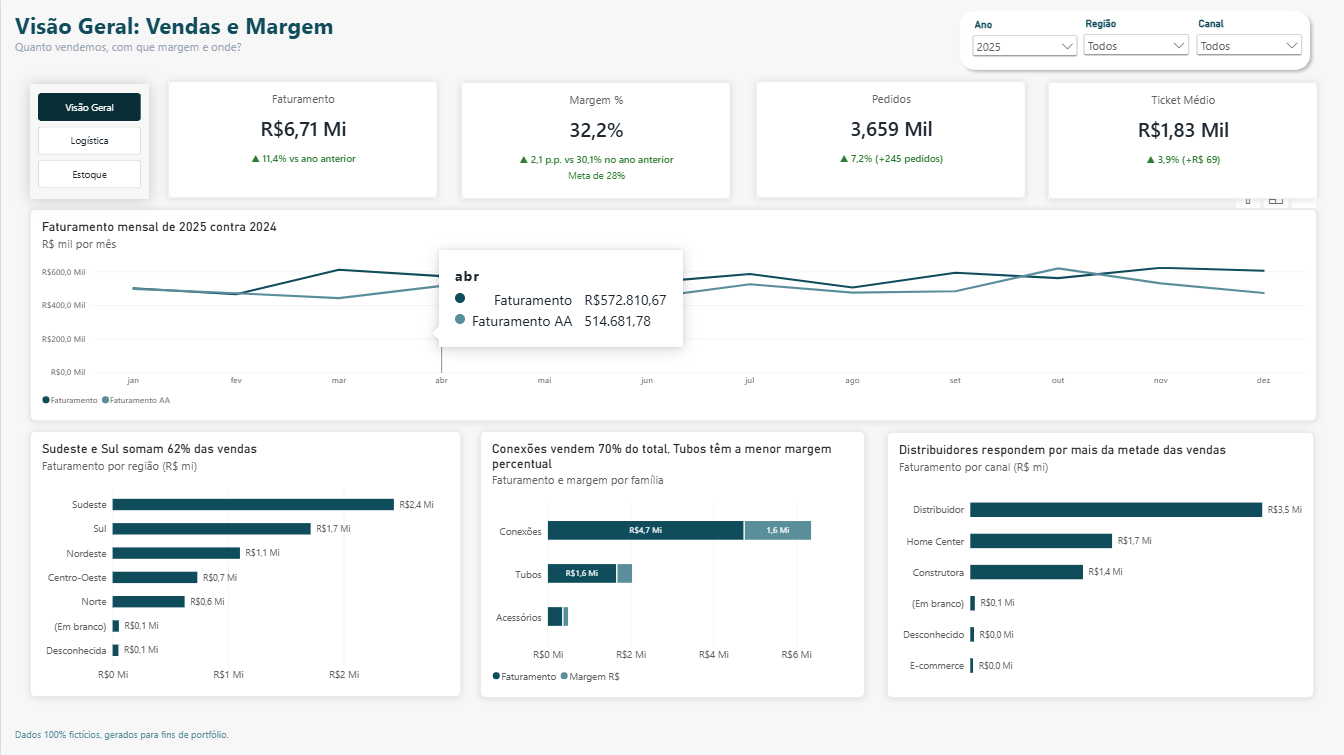

This screenshot's page, from the dashboard's own definition file:
{"tool":"powerbi","page":{"name":"Visão Geral","canvas":[1920,1080],"ordinal":0},"visuals":[{"type":"shape","box":[1361.6,8.4,517.4,101.1],"z":0,"group":"g1"},{"type":"textbox","box":[20,1040,496.1,26.6],"z":0},{"type":"textbox","box":[20.6,14.2,659.5,68],"z":1000},{"type":"lineChart","title":"Faturamento mensal de 2025 contra 2024","fields":{"Category":["dCalendario.Mes"],"Y":["_Medidas.Faturamento","_Medidas.Faturamento AA"]},"box":[41.2,300.6,1838.1,303.3],"z":2000},{"type":"barChart","title":"Distribuidores respondem por mais da metade das vendas","fields":{"Category":["dClientes.canal"],"Y":["_Medidas.Faturamento"]},"box":[1265,618.3,610.5,380.4],"z":3000},{"type":"barChart","fields":{"Category":["dClientes.regiao"],"Y":["_Medidas.Faturamento"]},"box":[41.2,617.1,615.8,380.4],"z":4000},{"type":"barChart","title":"Conexões vendem 70% do total, Tubos têm a menor margem percentual","fields":{"Category":["dProdutos.familia"],"Y":["_Medidas.Faturamento","_Medidas.Margem R$"]},"box":[685,617.1,550,381],"z":5000},{"type":"cardVisual","fields":{"Data":["_Medidas.Margem %"]},"box":[656.7,118.3,385,167],"z":6000},{"type":"group","id":"g1","title":"Grupo 1","box":[1361.6,8.4,517.4,101.1],"z":7000},{"type":"cardVisual","fields":{"Data":["_Medidas.Ticket Médio"]},"box":[1495,118.3,385,167],"z":9000},{"type":"slicer","fields":{"Values":["dClientes.canal"]},"box":[1702.4,27.7,160.6,60.4],"z":10000,"group":"g1"},{"type":"shape","box":[41.2,121,170.2,164.9],"z":10000},{"type":"slicer","fields":{"Values":["dClientes.regiao"]},"box":[1541.8,27.7,160.6,60.4],"z":11000,"group":"g1"},{"type":"cardVisual","title":"Pedidos","fields":{"Data":["_Medidas.Pedidos"]},"box":[1078.3,116.7,385,167],"z":11000},{"type":"cardVisual","fields":{"Data":["_Medidas.Faturamento"]},"box":[238.3,116.7,385,167],"z":12000},{"type":"pageNavigator","box":[53,134.1,147.4,138.5],"z":13000},{"type":"slicer","fields":{"Values":["dCalendario.Ano"]},"box":[1383.3,28.4,160,60],"z":14000,"group":"g1"}]}

Visuals, with their boxes in screenshot pixels (x1, y1, x2, y2), scaled from the page's 1920x1080 canvas onto the 1344x755 screenshot:
shape: 953, 6, 1315, 77
textbox: 14, 727, 361, 746
textbox: 14, 10, 476, 57
"Faturamento mensal de 2025 contra 2024" lineChart: 29, 210, 1316, 422
"Distribuidores respondem por mais da metade das vendas" barChart: 886, 432, 1313, 698
barChart - dClientes.regiao x _Medidas.Faturamento: 29, 431, 460, 697
"Conexões vendem 70% do total, Tubos têm a menor margem percentual" barChart: 479, 431, 864, 698
cardVisual - _Medidas.Margem %: 460, 83, 729, 199
"Grupo 1" group: 953, 6, 1315, 77
cardVisual - _Medidas.Ticket Médio: 1046, 83, 1316, 199
slicer - dClientes.canal: 1192, 19, 1304, 62
shape: 29, 85, 148, 200
slicer - dClientes.regiao: 1079, 19, 1192, 62
"Pedidos" cardVisual: 755, 82, 1024, 198
cardVisual - _Medidas.Faturamento: 167, 82, 436, 198
pageNavigator: 37, 94, 140, 191
slicer - dCalendario.Ano: 968, 20, 1080, 62
